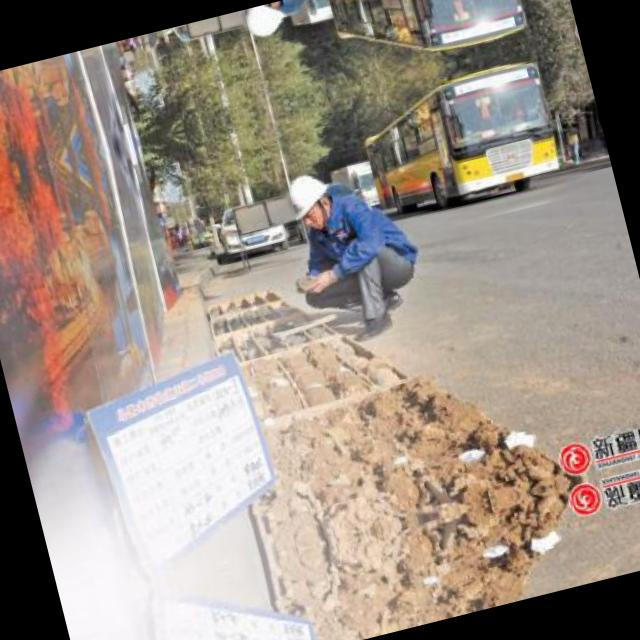helmet: (281, 164, 340, 233), (240, 0, 294, 43)
